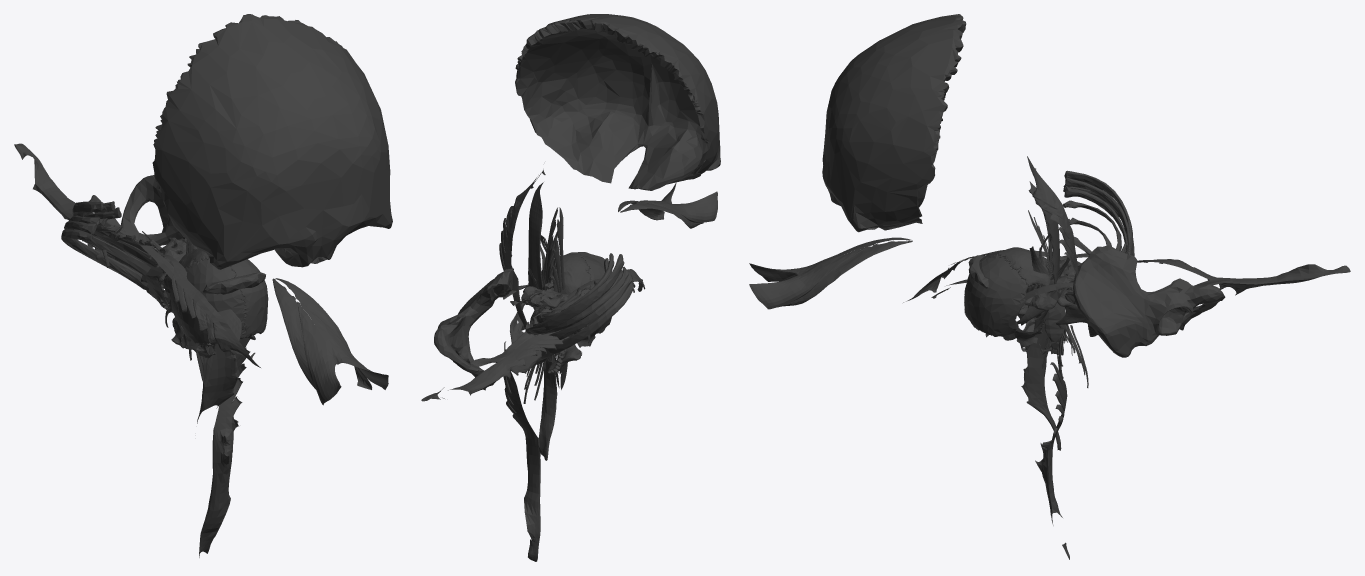
File: sharedassets48.glb
3 views of the same model, side by side, from view 1: azimuth 30°, elevation 25°; view 2: azimuth 150°, elevation 25°; view 3: azimuth 270°, elevation 25° (orthographic). The views are drawn at different scales.
Visible parts, largest first — view 1: 0159_Frontal__001097, 0216_Iliocostalis lumborum, L__1000608, 0147_Parietal, R__001095, 0202_Iliocostalis thoracis, R__1000658, 0222_Splenius capitis, R__1000390, 0219_Longissimus thoracis, L__1000605, 0148_Parietal, L__001094, 0201_Iliocostalis lumborum, R__1000657, 0000_Splenius cervicis, R__1000678, 0001_Splenius capitis, L__1000389, 0023_Seventh rib _07_, R__002279, 0223_Splenius cervicis, L__1000631 (+7 smaller); view 2: 0159_Frontal__001097, 0216_Iliocostalis lumborum, L__1000608, 0219_Longissimus thoracis, L__1000605, 0201_Iliocostalis lumborum, R__1000657, 0217_Iliocostalis thoracis, L__1000609, 0007_Ilium, R__001012, 0222_Splenius capitis, R__1000390, 0014_Eighth rib _08_, R__002280, 0035_Seventh rib _07_, L__002291, 0149_Occipital__001132, 0004_Ilium, L__001003, 0205_Spinalis thoracis, R__1000655 (+11 smaller); view 3: 0159_Frontal__001097, 0004_Ilium, L__001003, 0148_Parietal, L__001094, 0007_Ilium, R__001012, 0219_Longissimus thoracis, L__1000605, 0001_Splenius capitis, L__1000389, 0201_Iliocostalis lumborum, R__1000657, 0217_Iliocostalis thoracis, L__1000609, 0216_Iliocostalis lumborum, L__1000608, 0005_Ischium, R__001010, 0223_Splenius cervicis, L__1000631, 0149_Occipital__001132 (+2 smaller).
Part boxes in pixels (bbox=[...]): 0159_Frontal__001097: bbox=[152, 14, 392, 269]; 0216_Iliocostalis lumborum, L__1000608: bbox=[199, 337, 250, 557]; 0147_Parietal, R__001095: bbox=[176, 258, 246, 344]; 0202_Iliocostalis thoracis, R__1000658: bbox=[157, 250, 260, 367]; 0222_Splenius capitis, R__1000390: bbox=[297, 301, 341, 405]; 0219_Longissimus thoracis, L__1000605: bbox=[197, 344, 237, 423]; 0148_Parietal, L__001094: bbox=[230, 259, 268, 337]; 0201_Iliocostalis lumborum, R__1000657: bbox=[14, 143, 109, 267]; 0000_Splenius cervicis, R__1000678: bbox=[272, 278, 315, 389]; 0001_Splenius capitis, L__1000389: bbox=[298, 302, 388, 389]; 0023_Seventh rib _07_, R__002279: bbox=[61, 232, 170, 303]; 0223_Splenius cervicis, L__1000631: bbox=[275, 278, 372, 389]; 0159_Frontal__001097: bbox=[515, 14, 720, 190]; 0216_Iliocostalis lumborum, L__1000608: bbox=[503, 341, 540, 561]; 0219_Longissimus thoracis, L__1000605: bbox=[528, 182, 557, 460]; 0201_Iliocostalis lumborum, R__1000657: bbox=[421, 335, 569, 401]; 0217_Iliocostalis thoracis, L__1000609: bbox=[499, 169, 545, 328]; 0007_Ilium, R__001012: bbox=[459, 268, 513, 336]; 0222_Splenius capitis, R__1000390: bbox=[640, 191, 717, 222]; 0014_Eighth rib _08_, R__002280: bbox=[533, 254, 624, 334]; 0035_Seventh rib _07_, L__002291: bbox=[540, 285, 633, 359]; 0149_Occipital__001132: bbox=[541, 253, 591, 294]; 0004_Ilium, L__001003: bbox=[451, 269, 513, 347]; 0205_Spinalis thoracis, R__1000655: bbox=[552, 207, 567, 389]; 0159_Frontal__001097: bbox=[822, 14, 966, 232]; 0004_Ilium, L__001003: bbox=[1073, 245, 1168, 357]; 0148_Parietal, L__001094: bbox=[964, 254, 1028, 340]; 0007_Ilium, R__001012: bbox=[1073, 246, 1166, 356]; 0219_Longissimus thoracis, L__1000605: bbox=[1021, 181, 1061, 450]; 0001_Splenius capitis, L__1000389: bbox=[749, 246, 870, 309]; 0201_Iliocostalis lumborum, R__1000657: bbox=[1137, 259, 1350, 295]; 0217_Iliocostalis thoracis, L__1000609: bbox=[1027, 156, 1078, 325]; 0216_Iliocostalis lumborum, L__1000608: bbox=[1035, 362, 1069, 559]; 0005_Ischium, R__001010: bbox=[1161, 278, 1224, 312]; 0223_Splenius cervicis, L__1000631: bbox=[777, 241, 912, 307]; 0149_Occipital__001132: bbox=[998, 247, 1050, 286].
Bounding box in the file's own units: 0.175 × 0.4497 × 0.4592.
Materials: 1 (1 with a texture image).
